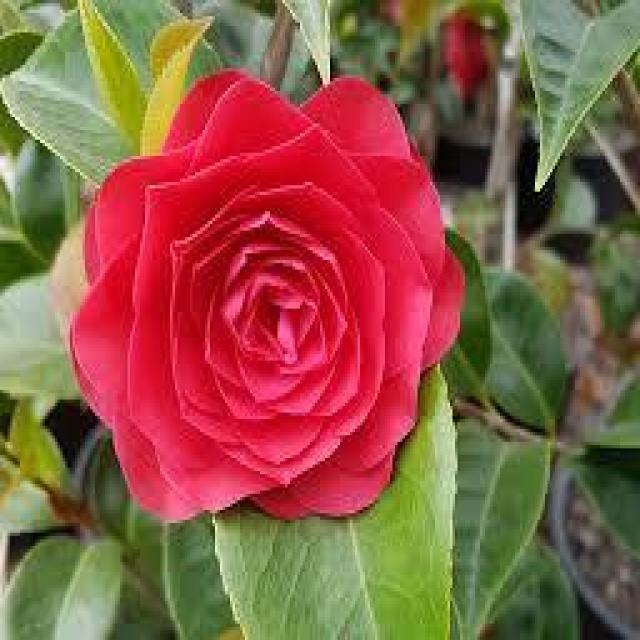organic waste: (80, 76, 482, 518)
